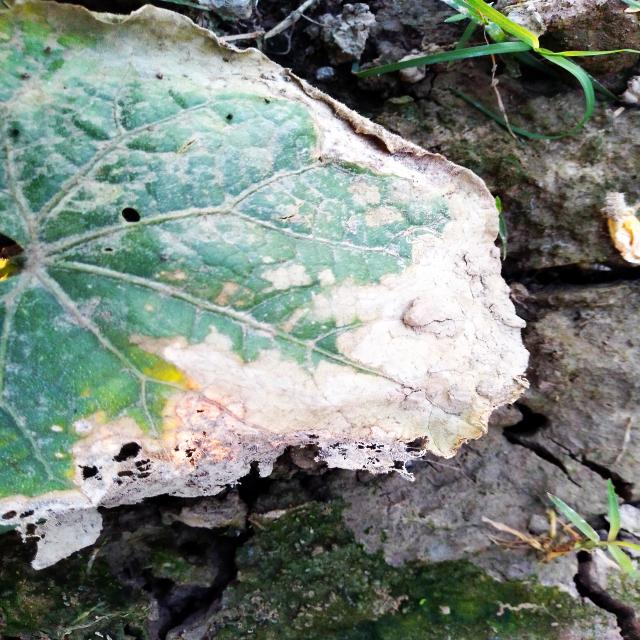Gummy-Stem-Blight: (0, 0, 530, 572)
